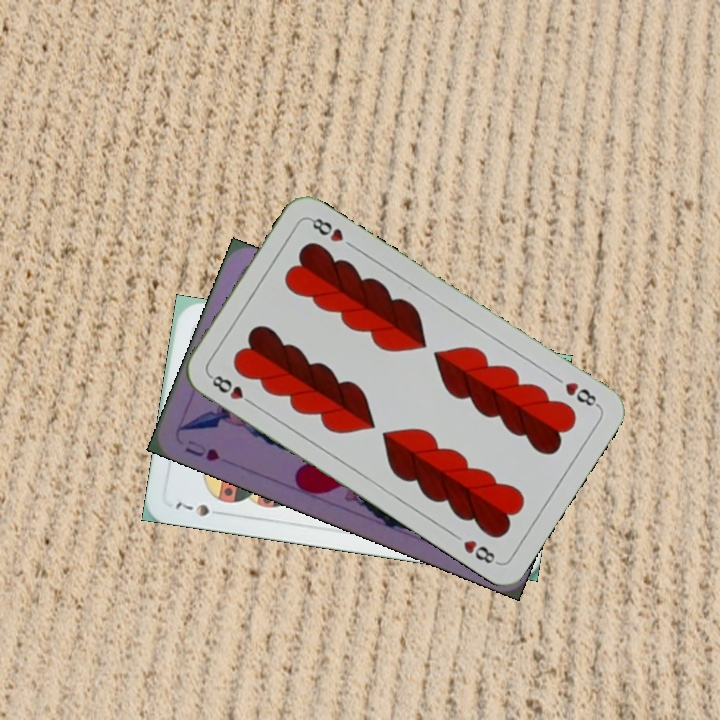H8: (205, 370, 258, 409), (560, 377, 602, 410)
HU: (181, 435, 222, 464)
S7: (171, 497, 212, 519)
